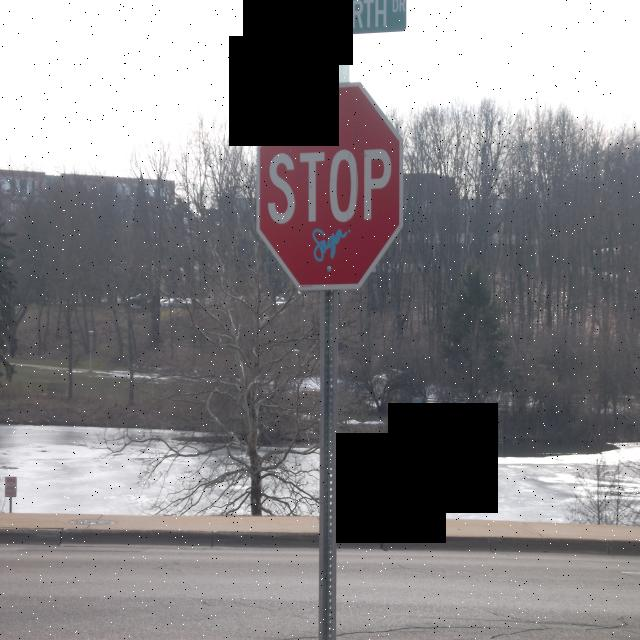stop: (247, 75, 409, 300)
